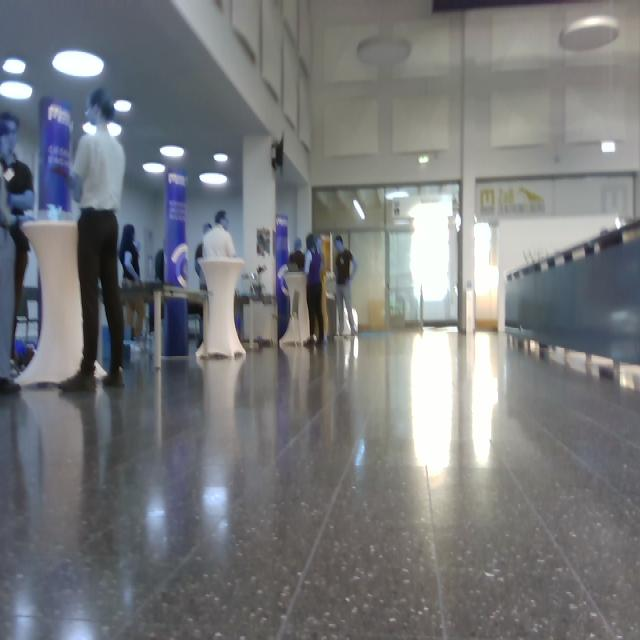door: (385, 184, 460, 329)
light bulb: (560, 14, 620, 52), (357, 36, 411, 68), (52, 51, 105, 79), (83, 121, 122, 137), (1, 81, 33, 100), (3, 57, 26, 74), (199, 172, 228, 185), (160, 145, 185, 158), (353, 198, 366, 220), (143, 163, 166, 175), (114, 98, 132, 113), (107, 121, 122, 137), (83, 121, 97, 136), (601, 141, 616, 153), (214, 153, 229, 162), (418, 154, 430, 164)
person: (52, 88, 127, 390), (1, 112, 36, 394), (119, 224, 146, 342), (304, 233, 328, 345), (334, 236, 358, 337)
staircase: (503, 217, 639, 381)
tiled floor: (2, 325, 639, 638)
